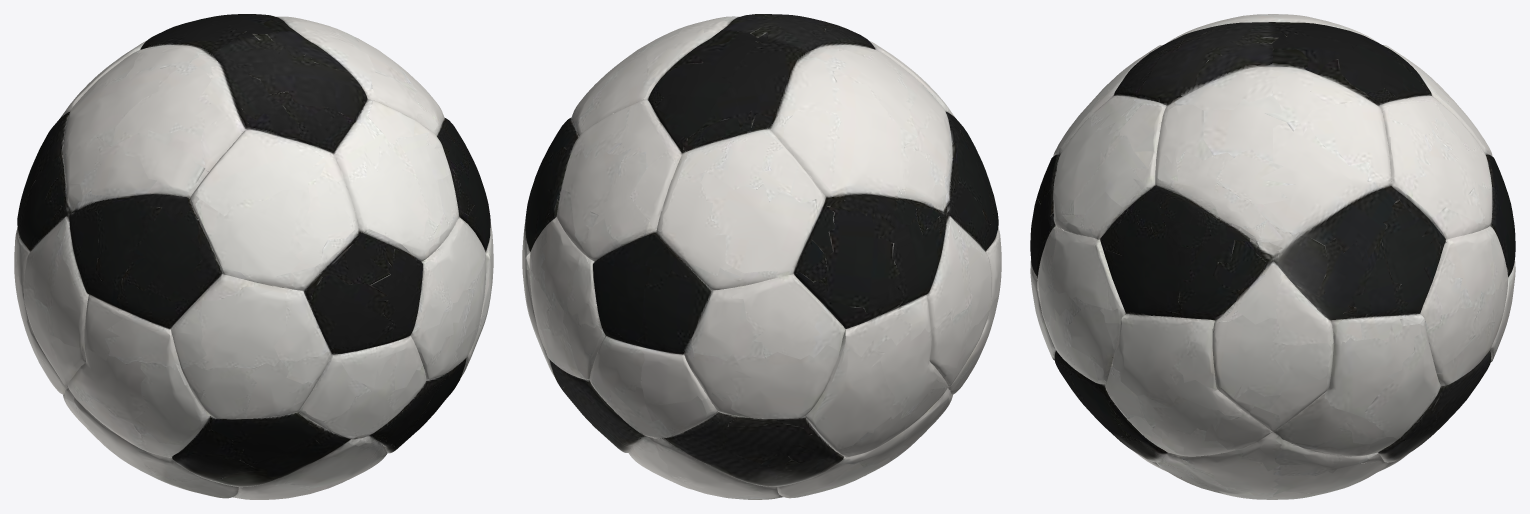
3 views of the same model, side by side, from view 1: azimuth 30°, elevation 25°; view 2: azimuth 150°, elevation 25°; view 3: azimuth 270°, elevation 25° (orthographic).
Visible parts, largest first — view 1: output_unwrapped; view 2: output_unwrapped; view 3: output_unwrapped.
Part boxes in pixels (bbox=[...]): output_unwrapped: bbox=[14, 14, 493, 499]; output_unwrapped: bbox=[522, 14, 1001, 499]; output_unwrapped: bbox=[1030, 14, 1515, 499].
Size of the model in its own units: 1.86 by 1.9 by 1.9.
Materials: 1 (1 with a texture image).
